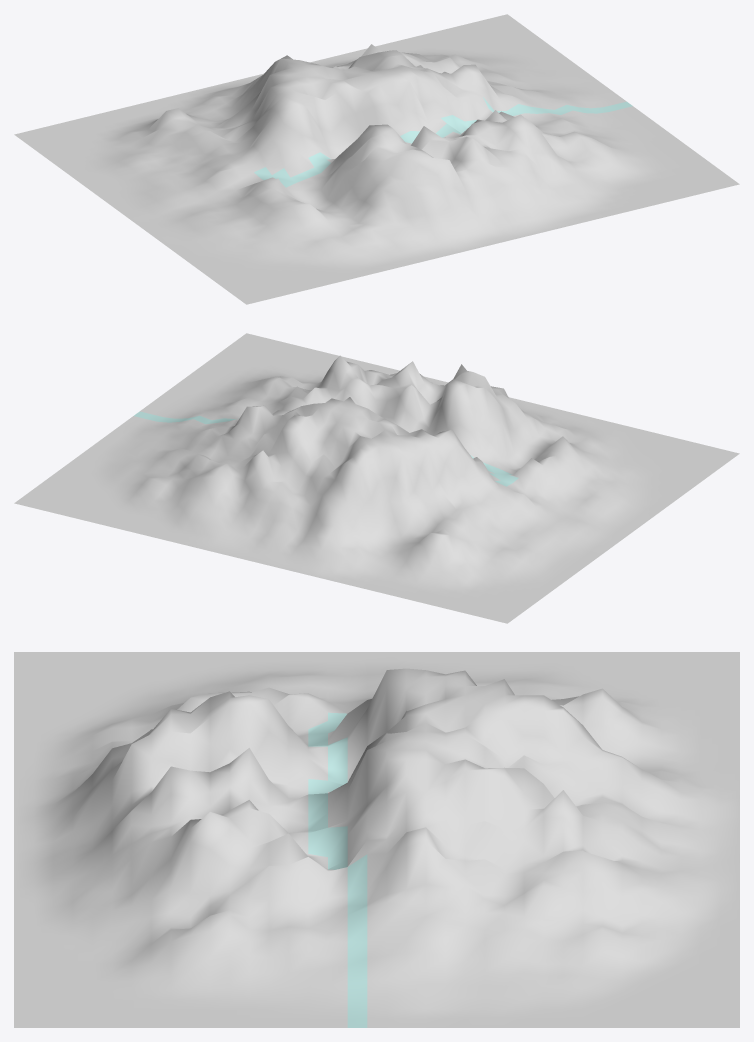
Rendered from Terrain.fbx.
3 renders of one model, top to bottom at view 1: azimuth 30°, elevation 25°; view 2: azimuth 150°, elevation 25°; view 3: azimuth 270°, elevation 25°, orthographic. The views are drawn at different scales.
Parts seen in each view (by area): view 1: Landscape; view 2: Landscape; view 3: Landscape.
Boxes of the visible parts, x1,y1,x2,y2 form: Landscape: (14,14,739,304); Landscape: (14,333,739,623); Landscape: (14,652,739,1027).
Size of the model in its own units: 1517 by 212 by 1238.
